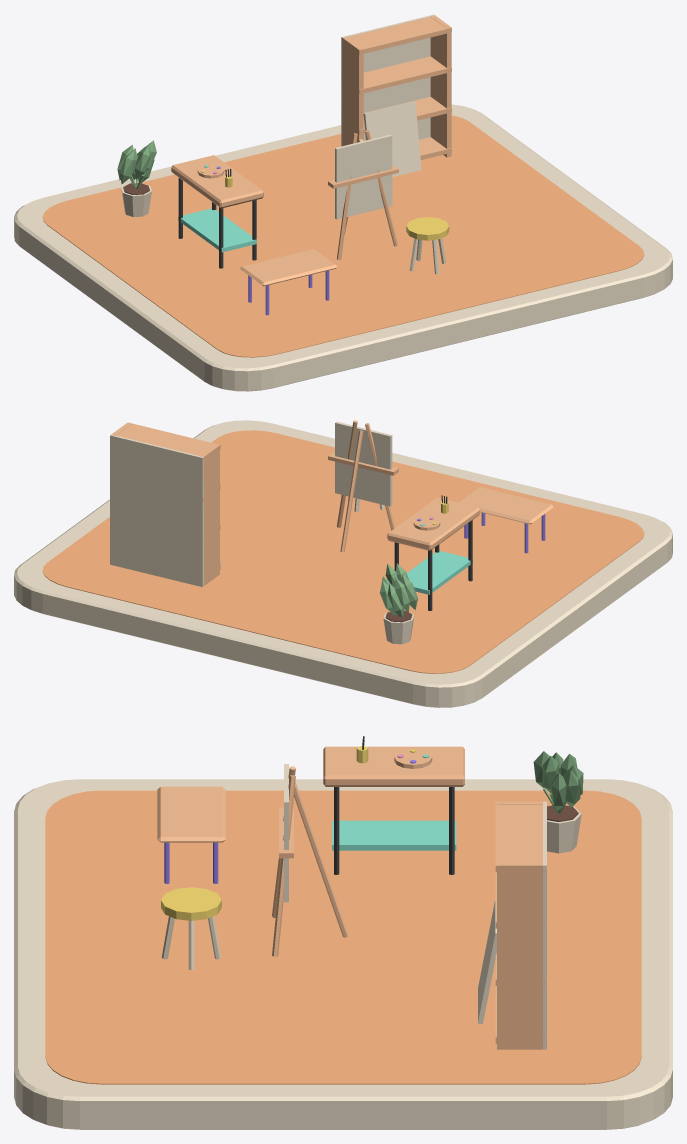
File: room.fbx
3 views of the same model, one above another, from view 1: azimuth 30°, elevation 25°; view 2: azimuth 150°, elevation 25°; view 3: azimuth 270°, elevation 25° (orthographic). The views are drawn at different scales.
Parts seen in each view (by area): view 1: COM-02 Floor Surface, COM-01 Rounded Base Direct, Canvas, Back, Blank canvas, Worktop, Pot, Side.003, Side.002, Rounded table top, Shelf.003, Shelf.002 (+3 smaller); view 2: COM-02 Floor Surface, COM-01 Rounded Base Direct, Back, Canvas, Worktop, Pot, Side.002, Rounded table top, Lower shelf, Shelf.003, Rear leg; view 3: COM-02 Floor Surface, COM-01 Rounded Base Direct, Side.003, Worktop, Rounded table top, Lower shelf, Pot, Shelf.003, Seat, Blank canvas, Rear leg, Back (+3 smaller).
Boxes of the visible parts, x1,y1,x2,y2 form: COM-02 Floor Surface: (42, 115, 644, 357); COM-01 Rounded Base Direct: (14, 104, 672, 391); Canvas: (335, 134, 392, 219); Back: (341, 14, 434, 146); Blank canvas: (363, 101, 421, 176); Worktop: (171, 155, 263, 208); Pot: (117, 140, 156, 216); Side.003: (430, 15, 451, 157); Side.002: (342, 37, 363, 145); Rounded table top: (240, 249, 337, 286); Shelf.003: (341, 17, 451, 54); Shelf.002: (341, 56, 451, 94); COM-02 Floor Surface: (42, 430, 644, 673); COM-01 Rounded Base Direct: (14, 420, 672, 707); Back: (110, 434, 203, 586); Canvas: (335, 421, 392, 506); Worktop: (387, 497, 479, 550); Pot: (379, 563, 417, 644); Side.002: (199, 444, 219, 585); Rounded table top: (459, 487, 553, 524); Lower shelf: (406, 551, 472, 594); Shelf.003: (116, 422, 220, 456); Rear leg: (340, 430, 363, 552); COM-02 Floor Surface: (45, 790, 641, 1084); COM-01 Rounded Base Direct: (14, 779, 672, 1129); Side.003: (497, 862, 542, 1049); Worktop: (323, 746, 464, 786); Rounded table top: (157, 786, 225, 842); Lower shelf: (332, 820, 456, 850); Pot: (533, 751, 583, 853); Shelf.003: (495, 801, 545, 872); Seat: (161, 887, 221, 920); Blank canvas: (478, 898, 496, 1023); Rear leg: (294, 782, 348, 937); Back: (543, 801, 546, 1049).
Bounding box in the file's own units: 600 × 190 × 520.
